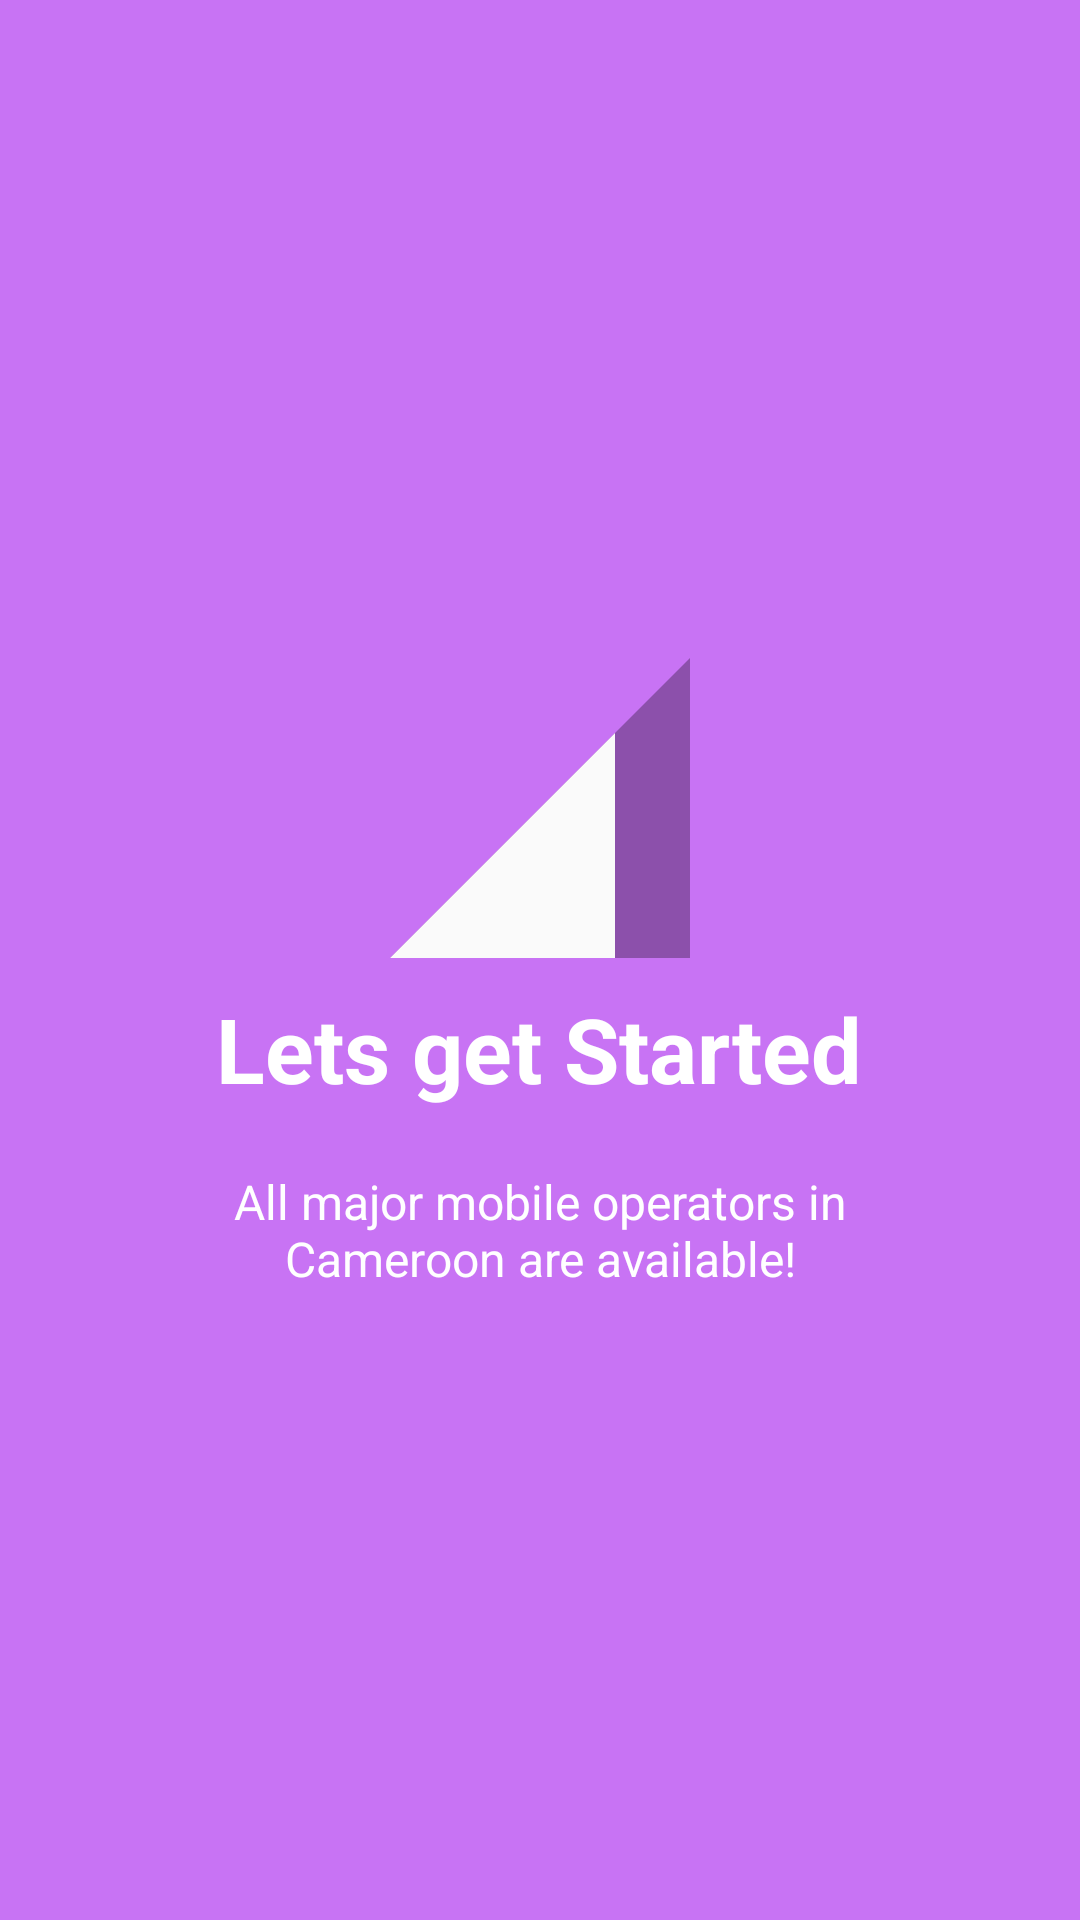

Locate icon controls on the screen. Image size 1080px×1920px, boxes as (x1, y1, x2, y2).
operator: (390, 658, 690, 958)
